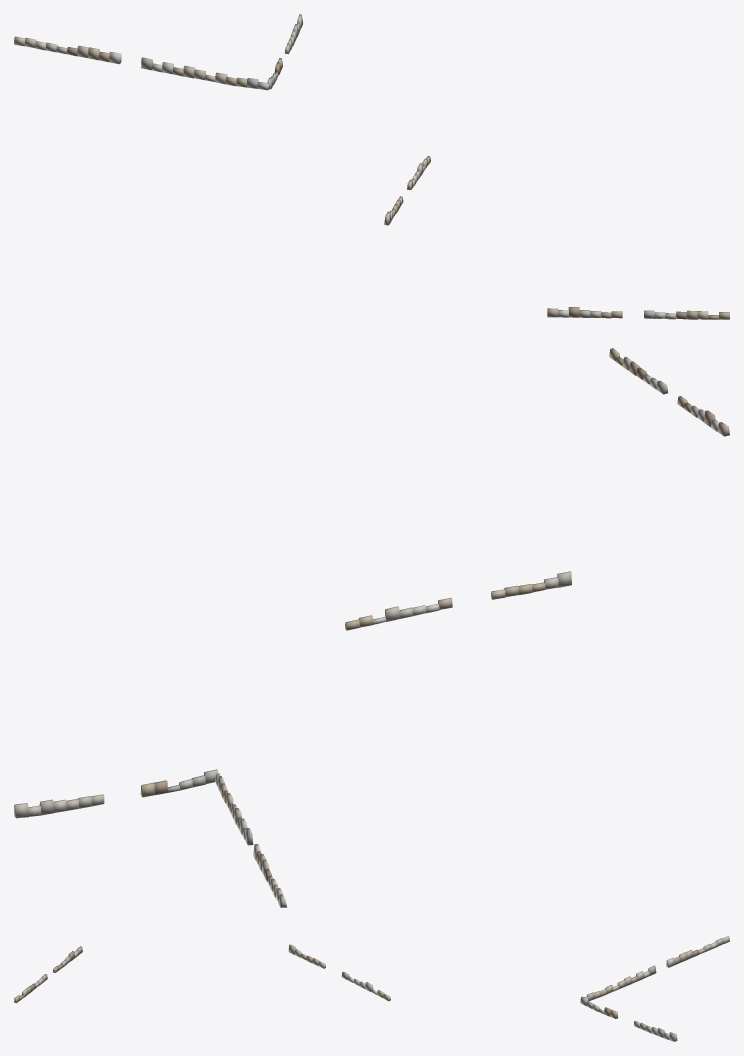
Rendered from farm_-50_-48_far.glb.
3 renders of one model, top to bottom at view 1: azimuth 30°, elevation 25°; view 2: azimuth 150°, elevation 25°; view 3: azimuth 270°, elevation 25°, orthographic. The views are drawn at different scales.
Parts seen in each view (by area): view 1: geometry_0; view 2: geometry_0; view 3: geometry_0.
Part boxes in pixels (<box>): geometry_0: <box>14,14,729,319</box>; geometry_0: <box>14,348,729,907</box>; geometry_0: <box>14,936,729,1041</box>.
Size of the model in its own units: 41.71 by 8.48 by 140.
